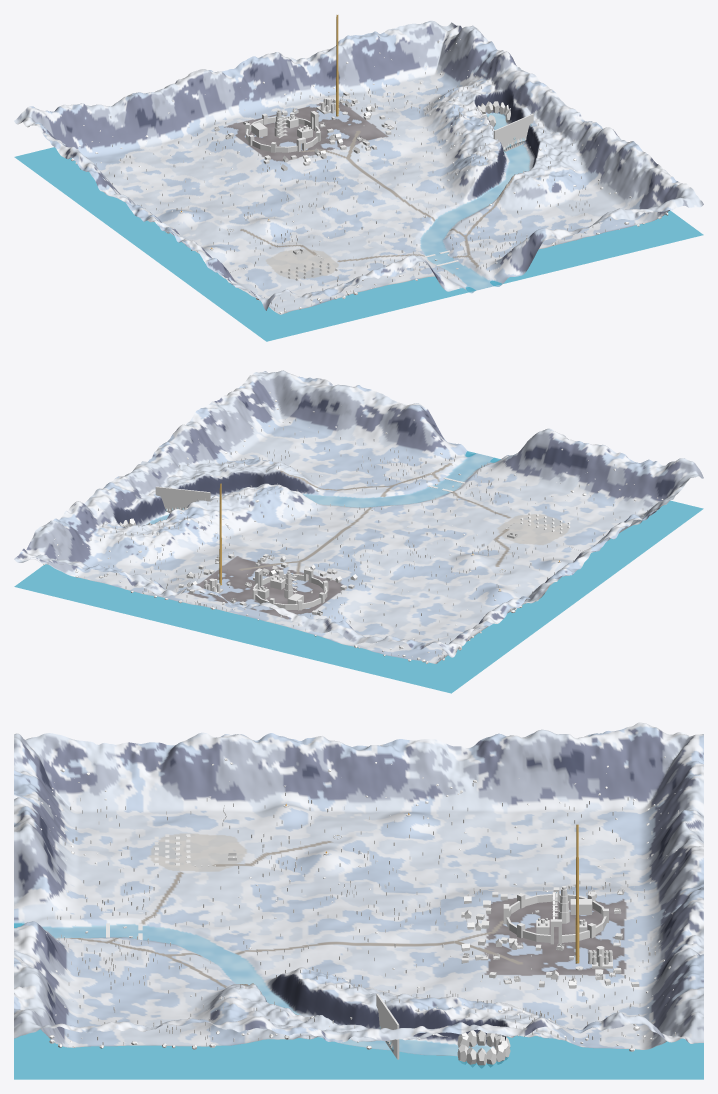
Rendered from world_winter.core.glb.
3 renders of one model, top to bottom at view 1: azimuth 30°, elevation 25°; view 2: azimuth 150°, elevation 25°; view 3: azimuth 270°, elevation 25°, orthographic. The views are drawn at different scales.
Visible parts, largest first — view 1: Terrain, Water, COL_Props, COL_Ice_Gate; view 2: Terrain, Water, COL_Props, COL_Ice_Gate; view 3: Terrain, Water, COL_Props, COL_Ice_Gate, COL_Winter_Ruin_Shells.
Boxes of the visible parts, x1,y1,x2,y2 form: Terrain: (14,20,703,314); Water: (14,147,703,341); COL_Props: (71,37,668,313); COL_Ice_Gate: (493,114,533,151); Terrain: (14,370,703,663); Water: (14,451,703,693); COL_Props: (43,392,668,663); COL_Ice_Gate: (155,486,210,513); Terrain: (14,722,703,1056); Water: (14,923,703,1079); COL_Props: (38,756,678,1067); COL_Ice_Gate: (376,993,399,1059); COL_Winter_Ruin_Shells: (462,888,624,984).
Bounding box in the file's own units: 720 × 176 × 720.
